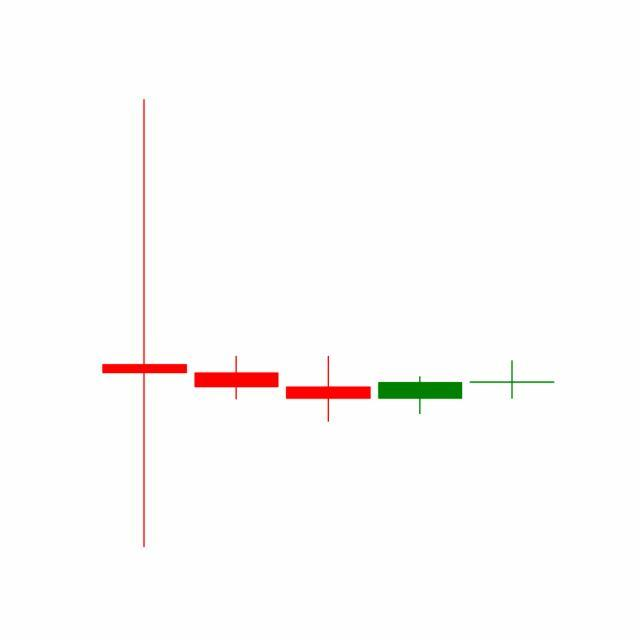Spinning Top: (466, 360, 559, 400)
